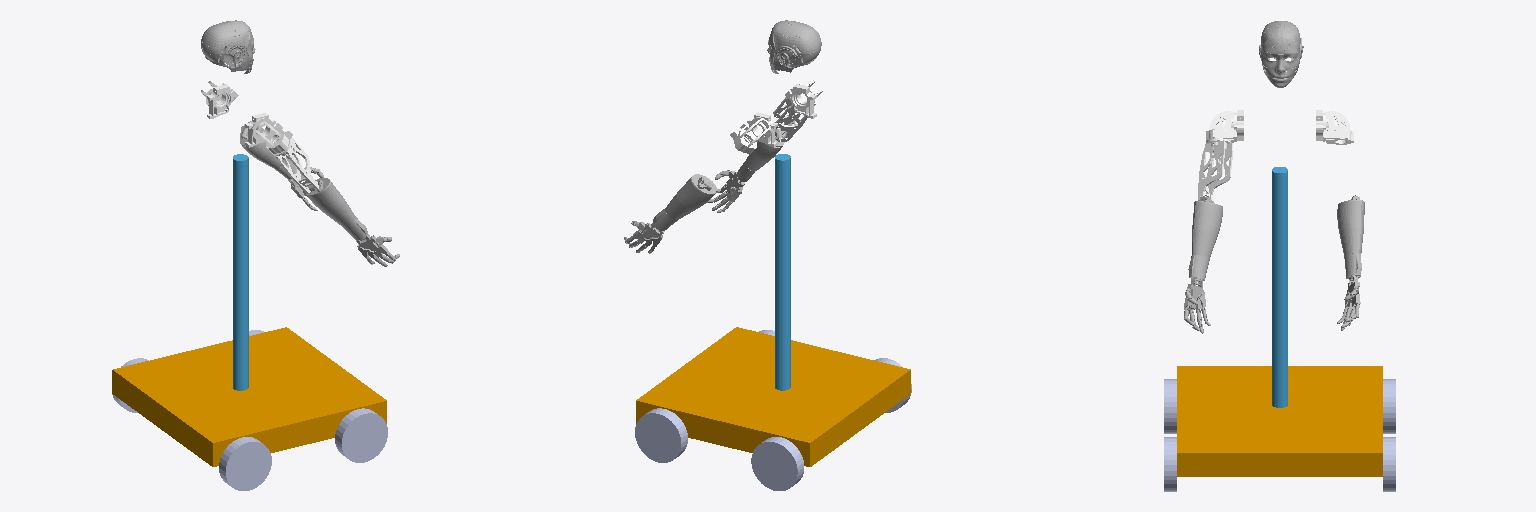
--- What the picture shows (computed from the rendered views, not written in the file) ---
The picture shows the robot from 3 angles, left to right: view 1: azimuth 30°, elevation 25°; view 2: azimuth 150°, elevation 25°; view 3: azimuth 270°, elevation 25°; orthographic projection.
Model yarab_5 with 22 links and 21 joints (12 revolute, 4 continuous, 5 fixed), rooted at base_link, posed all joints at 0 but 2 set to mid-range because 0 is outside their limits (rotate_Lj = -1, rotate_Rj = 1).
Visible links, largest first — view 1: base_link, pedestal_link, wheel_L1, wheel_L, head, hand_L, rotate_L, shouder_L, rest_L, hand_R, omo_R; view 2: base_link, pedestal_link, wheel_R1, wheel_R, head, hand_R, hand_L, shoulder_R, rotate_L, rest_L, rest_R, omo_L; view 3: base_link, pedestal_link, head, hand_L, hand_R, rotate_L, rest_L, shoulder_R, wheel_L, wheel_R, wheel_R1, wheel_L1 (+2 smaller).
Boxes of the visible links, x1,y1,x2,y2 form: base_link: (112, 327, 386, 466); pedestal_link: (233, 154, 248, 390); wheel_L1: (335, 408, 387, 462); wheel_L: (219, 437, 271, 490); head: (201, 20, 255, 73); hand_L: (306, 178, 367, 239); rotate_L: (273, 138, 318, 193); shouder_L: (252, 117, 292, 153); rest_L: (356, 234, 399, 266); hand_R: (240, 121, 295, 179); omo_R: (207, 84, 233, 118); base_link: (636, 327, 910, 466); pedestal_link: (775, 154, 790, 390); wheel_R1: (635, 408, 687, 462); wheel_R: (751, 437, 803, 490); head: (767, 20, 821, 73); hand_R: (653, 174, 716, 230); hand_L: (737, 122, 784, 181); shoulder_R: (730, 117, 771, 153); rotate_L: (773, 97, 807, 141); rest_L: (707, 170, 744, 212); rest_R: (624, 221, 664, 253); omo_L: (789, 84, 816, 118); base_link: (1177, 366, 1382, 476); pedestal_link: (1272, 167, 1287, 407); head: (1259, 21, 1303, 87); hand_L: (1188, 196, 1222, 280); hand_R: (1337, 195, 1364, 278); rotate_L: (1198, 138, 1233, 202); rest_L: (1184, 277, 1210, 333); shoulder_R: (1323, 111, 1353, 144); wheel_L: (1164, 379, 1176, 433); wheel_R: (1383, 379, 1395, 433); wheel_R1: (1383, 437, 1395, 491); wheel_L1: (1164, 437, 1176, 491).
Bounding box of the posed robot: 0.8747 × 0.85 × 1.71 m (x, y, z).
10 mesh visuals loaded from 13 distinct referenced files (10 binary STL); not drawn: 3 (reference not matched to a file when rendering).

The robot description file, URDF, robot "yarab_5":
<?xml version="1.0" encoding="utf-8"?>
<!-- This URDF was automatically created by SolidWorks to URDF Exporter! Originally created by Stephen Brawner ([email redacted]) 
     Commit Version: 1.6.0-1-g15f4949  Build Version: 1.6.7594.29634
     For more information, please see http://wiki.ros.org/sw_urdf_exporter -->
<robot name="yarab_5" xmlns:xacro="http://www.ros.org/wiki/xacro">

   
 

   <link name="base_link">
    <visual>
      <geometry>
        <box size="0.75 0.75 0.1"/>
      </geometry> 
      <origin rpy="0 0 0" xyz="0 0 0.105"/>
 
    </visual>
    <inertial>
      <origin xyz="0 0 0 " rpy=" 0 0 0.105"/>
      <mass value="19"/>
      <inertia ixx="2.360" ixy="0.702" ixz="-0.515" iyy="2.403" iyz="0.441" izz="1.8"/>
    </inertial>
  </link>


   
  
  <link name="pedestal_link">
    <visual>
      <geometry>
        <cylinder length="1" radius="0.03"/>
      </geometry>
      <origin rpy="0 0 0" xyz="0 0 0.6"/>
 
    </visual>
    <inertial>
      <mass value="1"/>
      <inertia ixx="2.360" ixy="0.702" ixz="-0.515" iyy="2.403" iyz="0.441" izz="1.8"/>
     </inertial>
  </link>
  <joint name="base_to_pedestal_link" type="fixed">
    <parent link="base_link"/>
    <child link="pedestal_link"/>
    <origin rpy="0 0 0"  xyz="-0.04 0 0"/>
  </joint>

  <link name="wheel_L">
      
    <inertial>
 
      <origin xyz="0 0 0" rpy=" 0 1.5707 1.5707"/>
 
      <mass value="5"/>
      <inertia
        ixx="0.5"
        ixy="0"
        ixz="0"
        iyy="0.3"
        iyz="0"
        izz="0.3" />
    </inertial>

    <collision name='collision'>
      <origin xyz="0 0 0" rpy=" 0 1.5707 1.5707"/> 
      <geometry>
        <cylinder radius="0.1" length="0.05"/>
      </geometry>
       
    </collision>

    <visual name='wheel_L_visual'>
      <origin xyz="0 0 0" rpy=" 0 1.5707 1.5707"/>
      <geometry>
         <cylinder radius="0.1" length="0.05"/>
      </geometry>
      <material
        name="">
        <color
          rgba="0.79216 0.81961 0.93333 1" />
      </material>
    </visual>
  </link>
  
     

   <joint name="wheel_Lj" type="continuous">
    <parent link="base_link"/>
    <child link="wheel_L"/>
    <origin rpy="0 0 0"  xyz="-0.25 -0.4 0.05"/>
    <axis xyz="0 1 0" rpy="0 0 0" />
 
    <joint_properties damping="0.001" friction="0.00001"/>
  </joint>
 

  <link name="wheel_R">
      
    <inertial>
 
      <origin xyz="0 0 0" rpy=" 0 1.5707 1.5707"/>
 
       
      <mass value="5"/>
      <inertia
        ixx="0.5"
        ixy="0"
        ixz="0"
        iyy="0.3"
        iyz="0"
        izz="0.3" />
    </inertial>

    <collision name='collision'>
      <origin xyz="0 0 0" rpy=" 0 1.5707 1.5707"/> 
      <geometry>
        <cylinder radius="0.1" length="0.05"/>
      </geometry>
        
    </collision>

    <visual name='wheel_R_visual'>
      <origin xyz="0 0 0" rpy=" 0 1.5707 1.5707"/>
      <geometry>
         <cylinder radius="0.1" length="0.05"/>
      </geometry>
       <material
        name="">
        <color
          rgba="0.79216 0.81961 0.93333 1" />
      </material>
    </visual>
  </link>
   
     

   <joint name="wheel_Rj" type="continuous">
    <parent link="base_link"/>
    <child link="wheel_R"/>
    <origin rpy="0 0 0"  xyz="-0.25 0.4 0.05"/>
    <axis xyz="0 1 0" rpy="0 0 0" />
 
    <joint_properties damping="0.001" friction="0.00001"/>
  </joint>
  <!--<gazebo>
    <plugin filename="libgazebo_ros_diff_drive.so" name="differential_drive_controller">
      <publishOdomTF>true</publishOdomTF>
      <rosDebugLevel>Debug</rosDebugLevel>
      <publishWheelTF>true</publishWheelTF>
      <publishTf>true</publishTf>
      <publishWheelJointState>true</publishWheelJointState>
      <alwaysOn>true</alwaysOn>
      <torque>10</torque>
      <updateRate>50.0</updateRate>
      <leftJoint>wheel_Lj</leftJoint>
      <rightJoint>wheel_Rj</rightJoint>
      <wheelSeparation>0.8</wheelSeparation>
      <wheelDiameter>0.2</wheelDiameter>
      <broadcastTF>1</broadcastTF>
      <wheelTorque>20</wheelTorque>
      <wheelAcceleration>1</wheelAcceleration>
      <commandTopic>cmd_vel</commandTopic>
      <odometryFrame>odom</odometryFrame>
      <odometryTopic>odom</odometryTopic>
      <robotBaseFrame>base_link</robotBaseFrame>
      <legacyMode>false</legacyMode>
    </plugin>
  </gazebo>--> 

  <link name="wheel_R1">
      
    <inertial>
 
      <origin xyz="0 0 0" rpy=" 0 1.5707 1.5707"/>
 
       
      <mass value="5"/>
      <inertia
        ixx="0.5"
        ixy="0"
        ixz="0"
        iyy="0.3"
        iyz="0"
        izz="0.3" />
    </inertial>

    <collision name='collision'>
      <origin xyz="0 0 0" rpy=" 0 1.5707 1.5707"/> 
      <geometry>
        <cylinder radius="0.1" length="0.05"/>
      </geometry>
       
    </collision>

    <visual name='wheel_R1_visual'>
      <origin xyz="0 0 0" rpy=" 0 1.5707 1.5707"/>
      <geometry>
         <cylinder radius="0.1" length="0.05"/>
      </geometry>
       <material
        name="">
        <color
          rgba="0.79216 0.81961 0.93333 1" />
      </material>
    </visual>
  </link>
   

  <joint name="wheel_Rj1" type="continuous">
    <parent link="base_link"/>
    <child link="wheel_R1"/>
    <origin rpy="0 0 0"  xyz="0.25 0.4 0.05"/>
    <axis xyz="0 1 0" rpy="0 0 0" />
 
    <joint_properties damping="0.001" friction="0.00001"/>
  </joint>

  <link name="wheel_L1">
      
    <inertial>
 
      <origin xyz="0 0 0" rpy=" 0 1.5707 1.5707"/>
 
      <mass value="5"/>
      <inertia
        ixx="0.5"
        ixy="0"
        ixz="0"
        iyy="0.3"
        iyz="0"
        izz="0.3" />
    </inertial>

    <collision name='collision'>
      <origin xyz="0 0 0" rpy=" 0 1.5707 1.5707"/> 
      <geometry>
        <cylinder radius="0.1" length="0.05"/>
      </geometry>
       
    </collision>

    <visual name='wheel_L1_visual'>
      <origin xyz="0 0 0" rpy=" 0 1.5707 1.5707"/>
      <geometry>
         <cylinder radius="0.1" length="0.05"/>
      </geometry>
      <material
        name="">
        <color
          rgba="0.79216 0.81961 0.93333 1" />
      </material>
    </visual>
  </link>
   
     

  <joint name="wheel_Lj1" type="continuous">
    <parent link="base_link"/>
    <child link="wheel_L1"/>
    <origin rpy="0 0 0"  xyz="0.25 -0.4 0.05"/>
    <axis xyz="0 1 0" rpy="0 0 0" />
 
    <joint_properties damping="0.001" friction="0.00001"/>
  </joint>
  <!--<gazebo>
    <plugin filename="libgazebo_ros_diff_drive.so" name="differential_drive_controller">
      <publishOdomTF>true</publishOdomTF>
      <rosDebugLevel>Debug</rosDebugLevel>
      <publishWheelTF>true</publishWheelTF>
      <publishTf>true</publishTf>
      <publishWheelJointState>true</publishWheelJointState>
      <alwaysOn>true</alwaysOn>
      <updateRate>50.0</updateRate>
      <leftJoint>wheel_Lj1</leftJoint>
      <rightJoint>wheel_Rj1</rightJoint>
      <wheelSeparation>0.8</wheelSeparation>
      <wheelDiameter>0.2</wheelDiameter>
      <broadcastTF>1</broadcastTF>
      <wheelTorque>20</wheelTorque>
      <wheelAcceleration>1</wheelAcceleration>
      <commandTopic>cmd_vel</commandTopic>
      <odometryFrame>odom</odometryFrame>
      <odometryTopic>odom</odometryTopic>
      <robotBaseFrame>base_link</robotBaseFrame>
      <legacyMode>false</legacyMode>
    </plugin>
  </gazebo>-->
 


  <!-- <link
    name="caster">
    <inertial>
      <origin
        xyz="0.0343540178179281 -0.00804234578799452 -0.035721628705299"
        rpy="0 0 0" />
      <mass
        value="1.81765554433287" />
      <inertia
        ixx="0.00201711990339206"
        ixy="1.59053007025258E-17"
        ixz="4.29492932718007E-18"
        iyy="0.00341060325818899"
        iyz="-2.06565000779944E-17"
        izz="0.00181229640803809" />
    </inertial>
    <visual>
      <origin
        xyz="0 0 0"
        rpy="0 0 0" />
      <geometry>
        <mesh
          filename="package://yarab_5/meshes/caster.STL" />
      </geometry>
      <material
        name="">
        <color
          rgba="0.647058823529412 0.619607843137255 0.588235294117647 1" />
      </material>
    </visual>
    <collision>
      <origin
        xyz="0 0 0"
        rpy="0 0 0" />
      <geometry>
        <mesh
          filename="package://yarab_5/meshes/caster.STL" />
      </geometry>
    </collision>
  </link>
  <joint
    name="caster_joint"
    type="fixed">
    <origin
      xyz="0.18065 0.0091028 -0.043699"
      rpy="0 0 0" />
    <parent
      link="base_link" />
    <child
      link="caster" />
    <axis
      xyz="0 0 0" />
  </joint>-->
  <link
    name="body">
    <inertial>
      <origin
        xyz="-0.0384918724857681 0.00178552458421267 0.159935059228738"
        rpy="0 0 0" />
      <mass
        value="1.91202002917265" />
      <inertia
        ixx="0.00273303625317548"
        ixy="-2.06285913284317E-07"
        ixz="9.2959308530691E-06"
        iyy="0.0016531430085364"
        iyz="0.000101386942419808"
        izz="0.00140674846336726" />
    </inertial>
    <visual>
      <origin
        xyz="0 0 0"
        rpy="0 0 0" />
      <geometry>
        <mesh
          filename="package://yarab_5/meshes/body.STL" />
      </geometry>
      <material
        name="">
        <color
          rgba="1 1 1 0.32" />
      </material>
    </visual>
    <collision>
      <origin
        xyz="0 0 0"
        rpy="0 0 0" />
      <geometry>
        <mesh
          filename="package://yarab_5/meshes/body.STL" />
      </geometry>
    </collision>
  </link>
  <joint
    name="body_link"
    type="fixed">
    <origin
      xyz="-0.0050417 0.0013268 1.0235"
      rpy="0 0 0" />
    <parent
      link="base_link" />
    <child
      link="body" />
    <axis
      xyz="0 0 0" />
  </joint>
  <link
    name="omo_L">
    <inertial>
      <origin
        xyz="0.0212694318696867 -0.00566332804666483 -0.0426371813176138"
        rpy="0 0 0" />
      <mass
        value="0.135697540457828" />
      <inertia
        ixx="0.000162318927052278"
        ixy="1.60919051595649E-06"
        ixz="-1.98518662725654E-05"
        iyy="0.00025396441224876"
        iyz="-1.2910748790188E-06"
        izz="0.000106851321139916" />
    </inertial>
    <visual>
      <origin
        xyz="0 0 0"
        rpy="0 0 0" />
      <geometry>
        <mesh
          filename="package://yarab_5/meshes/omo_L.STL" />
      </geometry>
      <material
        name="">
        <color
          rgba="1 1 1 0.32" />
      </material>
    </visual>
    <collision>
      <origin
        xyz="0 0 0"
        rpy="0 0 0" />
      <geometry>
        <mesh
          filename="package://yarab_5/meshes/omo_L.STL" />
      </geometry>
    </collision>
  </link>
  <joint
    name="omo_Lj"
    type="revolute">
    <origin
      xyz="-0.061433 -0.14191 0.29478"
      rpy="0 0 0" />
    <parent
      link="body" />
    <child
      link="omo_L" />
    <axis
      xyz="-1 0 0" />
    <limit
      lower="0"
      upper="1"
      effort="10"
      velocity="3" />
     
  </joint>
  <link
    name="shouder_L">
    <inertial>
      <origin
        xyz="0.0183588183182291 -0.0444633939975331 -0.0145068599892659"
        rpy="0 0 0" />
      <mass
        value="0.31191383251679" />
      <inertia
        ixx="0.000309456989034"
        ixy="-1.06190992090652E-05"
        ixz="-4.05071828768625E-05"
        iyy="0.000255452213653355"
        iyz="-1.22821429542959E-05"
        izz="0.000321418688570605" />
    </inertial>
    <visual>
      <origin
        xyz="0 0 0"
        rpy="0 0 0" />
      <geometry>
        <mesh
          filename="package://yarab_5/meshes/shouder_L.STL" />
      </geometry>
      <material
        name="">
        <color
          rgba="1 1 1 0.32" />
      </material>
    </visual>
    <collision>
      <origin
        xyz="0 0 0"
        rpy="0 0 0" />
      <geometry>
        <mesh
          filename="package://yarab_5/meshes/shouder_L.STL" />
      </geometry>
    </collision>
  </link>
  <joint
    name="shouder_Lj"
    type="revolute">
    <origin
      xyz="0.02799 -0.016748 -0.038733"
      rpy="0 0 0" />
    <parent
      link="omo_L" />
    <child
      link="shouder_L" />
    <axis
      xyz="0 -1 0" />
    <limit
      lower="0"
      upper="1"
      effort="10"
      velocity="3" />
   
  </joint>
  <link
    name="rotate_L">
    <inertial>
      <origin
        xyz="-0.0224626093094605 0.00163329475110996 0.00453035237775867"
        rpy="0 0 0" />
      <mass
        value="0.262977284557384" />
      <inertia
        ixx="0.000292121426480082"
        ixy="1.27284282685936E-05"
        ixz="-5.61396756699046E-05"
        iyy="0.000387783560790661"
        iyz="1.90160846953877E-05"
        izz="0.00019359045472725" />
    </inertial>
    <visual>
      <origin
        xyz="0 0 0"
        rpy="0 0 0" />
      <geometry>
        <mesh
          filename="package://yarab_5/meshes/rotate_L.STL" />
      </geometry>
      <material
        name="">
        <color
          rgba="1 1 1 0.32" />
      </material>
    </visual>
    <collision>
      <origin
        xyz="0 0 0"
        rpy="0 0 0" />
      <geometry>
        <mesh
          filename="package://yarab_5/meshes/rotate_L.STL" />
      </geometry>
    </collision>
  </link>
  <joint
    name="rotate_Lj"
    type="revolute">
    <origin
      xyz="0.10354 -0.067278 -0.11868"
      rpy="0 0 0" />
    <parent
      link="shouder_L" />
    <child
      link="rotate_L" />
    <axis
      xyz="0.65912 -0.004428 -0.75202" />
    <limit
      lower="-1.5"
      upper="-0.5"
      effort="10"
      velocity="3" />
     
  </joint>
  <link
    name="hand_L">
    <inertial>
      <origin
        xyz="0.0559447876925415 -0.00779673969551703 -0.0745916479393384"
        rpy="0 0 0" />
      <mass
        value="0.327188298164344" />
      <inertia
        ixx="0.000520434460456842"
        ixy="-4.17781288930706E-05"
        ixz="-1.51804077844164E-05"
        iyy="0.000384452370934889"
        iyz="-3.254421297706E-05"
        izz="0.000530459987533421" />
    </inertial>
    <visual>
      <origin
        xyz="0 0 0"
        rpy="0 0 0" />
      <geometry>
        <mesh
          filename="package://yarab_5/meshes/hand_L.STL" />
      </geometry>
      <material
        name="">
        <color
          rgba="0.752941176470588 0.752941176470588 0.752941176470588 1" />
      </material>
    </visual>
    <collision>
      <origin
        xyz="0 0 0"
        rpy="0 0 0" />
      <geometry>
        <mesh
          filename="package://yarab_5/meshes/hand_L.STL" />
      </geometry>
    </collision>
  </link>
  <joint
    name="hand_Lj"
    type="revolute">
    <origin
      xyz="0.048896 0.0048821 -0.12843"
      rpy="0 0 0" />
    <parent
      link="rotate_L" />
    <child
      link="hand_L" />
    <axis
      xyz="0.087987 0.99357 0.071267" />
    <limit
       lower="-1.10"
      upper="0"
      effort="10"
      velocity="3" />
  </joint>
  <link
    name="rest_L">
    <inertial>
      <origin
        xyz="0.0188857218020566 -0.00412551389833113 -0.0184291003042329"
        rpy="0 0 0" />
      <mass
        value="0.185026014260809" />
      <inertia
        ixx="8.71300457283702E-05"
        ixy="6.89250490012657E-06"
        ixz="2.83671209013227E-05"
        iyy="7.62808725553407E-05"
        iyz="-1.80128983377849E-05"
        izz="5.53607594891623E-05" />
    </inertial>
    <visual>
      <origin
        xyz="0 0 0"
        rpy="0 0 0" />
      <geometry>
        <mesh
          filename="package://yarab_5/meshes/rest_L.STL" />
      </geometry>
      <material
        name="">
        <color
          rgba="0.752941176470588 0.752941176470588 0.752941176470588 1" />
      </material>
    </visual>
    <collision>
      <origin
        xyz="0 0 0"
        rpy="0 0 0" />
      <geometry>
        <mesh
          filename="package://yarab_5/meshes/rest_L.STL" />
      </geometry>
    </collision>
  </link>
  <joint
    name="rest_Lj"
    type="revolute">
    <origin
      xyz="0.18924 -0.010997 -0.2897"
      rpy="0 0 0" />
    <parent
      link="hand_L" />
    <child
      link="rest_L" />
    <axis
      xyz="-0.53136 -0.013701 0.84704" />
    <limit
      lower="0"
      upper="1"
      effort="10"
      velocity="3" />
  </joint>


 
  <link name="end_zeft_L"/>
  <joint name="end_zeft_Lj" type="revolute">
    <parent link="rest_L"/>
    <child link="end_zeft_L"/>
    <origin rpy="0 0 0"  xyz="0.3 0.012764 -0.28404"/>
    <axis  xyz="-0.7 0.0023746 0.76379" />
    <limit
      lower="-1"
      upper="0"
      effort="10"
      velocity="3" />
  </joint>


















  <link
    name="omo_R">
    <inertial>
      <origin
        xyz="-0.0524232487351919 0.00286389736088846 -0.043731423271426"
        rpy="0 0 0" />
      <mass
        value="0.135697540430682" />
      <inertia
        ixx="0.000162318941282968"
        ixy="-1.84283661019144E-06"
        ixz="-1.98315403742906E-05"
        iyy="0.000253974415932807"
        iyz="-4.41583946421858E-07"
        izz="0.000106841331671834" />
    </inertial>
    <visual>
      <origin
        xyz="0 0 0"
        rpy="0 0 0" />
      <geometry>
        <mesh
          filename="package://yarab_5/meshes/omo_R.STL" />
      </geometry>
      <material
        name="">
        <color
          rgba="1 1 1 0.32" />
      </material>
    </visual>
    <collision>
      <origin
        xyz="0 0 0"
        rpy="0 0 0" />
      <geometry>
        <mesh
          filename="package://yarab_5/meshes/omo_R.STL" />
      </geometry>
    </collision>
  </link>
  <joint
    name="omo_Rj"
    type="revolute">
    <origin
      xyz="0.012259 0.14242 0.29589"
      rpy="0 0 0" />
    <parent
      link="body" />
    <child
      link="omo_R" />
    <axis
      xyz="-1 0 0" />
    <limit
      lower="-1"
      upper="0"
      effort="10"
      velocity="3" />
    
  </joint>
  <link
    name="shoulder_R">
    <inertial>
      <origin
        xyz="0.0183588175208857 0.0438141843890701 -0.0369271087793255"
        rpy="0 0 0" />
      <mass
        value="0.311913841720798" />
      <inertia
        ixx="0.000309456982753045"
        ixy="1.01413561515747E-05"
        ixz="-4.06294249209773E-05"
        iyy="0.000255750613380444"
        iyz="1.30554954143824E-05"
        izz="0.00032112030866524" />
    </inertial>
    <visual>
      <origin
        xyz="0 0 0"
        rpy="0 0 0" />
      <geometry>
        <mesh
          filename="package://yarab_5/meshes/shoulder_R.STL" />
      </geometry>
      <material
        name="">
        <color
          rgba="1 1 1 0.32" />
      </material>
    </visual>
    <collision>
      <origin
        xyz="0 0 0"
        rpy="0 0 0" />
      <geometry>
        <mesh
          filename="package://yarab_5/meshes/shoulder_R.STL" />
      </geometry>
    </collision>
  </link>
  <joint
    name="shoulder_Rj"
    type="revolute">
    <origin
      xyz="-0.045703 0.01447 -0.01806"
      rpy="0 0 0" />
    <parent
      link="omo_R" />
    <child
      link="shoulder_R" />
    <axis
      xyz="0 0.99993 -0.011776" />
    <limit
      lower="-1"
      upper="0"
      effort="10"
      velocity="3" />
 
  </joint>
  <link
    name="rotate_R">
    <inertial>
      <origin
        xyz="-0.022463 0.0016333 0.0045304"
        rpy="0 0 0" />
      <mass
        value="0.26298" />
      <inertia
        ixx="0.00029212"
        ixy="1.2728E-05"
        ixz="-5.614E-05"
        iyy="0.00038778"
        iyz="1.9016E-05"
        izz="0.00019359" />
    </inertial>
    <visual>
      <origin
        xyz="0 0 0"
        rpy="0 0 0" />
      <geometry>
        <mesh
          filename="package://yarab_5/meshes/rotate_R.STL" />
      </geometry>
      <material
        name="">
        <color
          rgba="1 1 1 0.32" />
      </material>
    </visual>
    <collision>
      <origin
        xyz="0 0 0"
        rpy="0 0 0" />
      <geometry>
        <mesh
          filename="package://yarab_5/meshes/rotate_R.STL" />
      </geometry>
    </collision>
  </link>
  <joint
    name="rotate_Rj"
    type="revolute">
    <origin
      xyz="0.10354 0.065426 -0.14136"
      rpy="0 0 0" />
    <parent
      link="shoulder_R" />
    <child
      link="rotate_R" />
    <axis
      xyz="0.65912 -0.004428 -0.75202" />
    <limit
      lower="0.5"
      upper="1.5"
      effort="10"
      velocity="3" />
 
  </joint>
  <link
    name="hand_R">
    <inertial>
      <origin
        xyz="0.0675226597614774 0.00663485872455144 -0.0646965476859732"
        rpy="0 0 0" />
      <mass
        value="0.327181497650131" />
      <inertia
        ixx="0.000533263163681015"
        ixy="1.28257228347251E-05"
        ixz="-7.53529851206024E-06"
        iyy="0.000367614467908172"
        iyz="1.58861797474135E-05"
        izz="0.000534466426155837" />
    </inertial>
    <visual>
      <origin
        xyz="0 0 0"
        rpy="0 0 0" />
      <geometry>
        <mesh
          filename="package://yarab_5/meshes/hand_R.STL" />
      </geometry>
      <material
        name="">
        <color
          rgba="0.752941176470588 0.752941176470588 0.752941176470588 1" />
      </material>
    </visual>
    <collision>
      <origin
        xyz="0 0 0"
        rpy="0 0 0" />
      <geometry>
        <mesh
          filename="package://yarab_5/meshes/hand_R.STL" />
      </geometry>
    </collision>
  </link>
  <joint
    name="hand_Rj"
    type="revolute">
    <origin
      xyz="0.048896 0.0048821 -0.12843"
      rpy="0 0 0" />
    <parent
      link="rotate_R" />
    <child
      link="hand_R" />
    <axis
      xyz="-0.087987 -0.99357 -0.071267" />
    <limit
       lower="0"
      upper="1.1"
      effort="10"
      velocity="3" />
     
  </joint>
  <link
    name="rest_R">
    <inertial>
      <origin
        xyz="-5.05268808778658E-05 0.00243132869478613 0.0113427620381037"
        rpy="0 0 0" />
      <mass
        value="0.185027184716738" />
      <inertia
        ixx="7.27003367111184E-05"
        ixy="-1.60085720722962E-05"
        ixz="3.22748272006103E-05"
        iyy="7.62024107888347E-05"
        iyz="1.13794075702724E-05"
        izz="6.98724470484816E-05" />
    </inertial>
    <visual>
      <origin
        xyz="0 0 0"
        rpy="0 0 0" />
      <geometry>
        <mesh
          filename="package://yarab_5/meshes/rest_R.STL" />
      </geometry>
      <material
        name="">
        <color
          rgba="0.752941176470588 0.752941176470588 0.752941176470588 1" />
      </material>
    </visual>
    <collision>
      <origin
        xyz="0 0 0"
        rpy="0 0 0" />
      <geometry>
        <mesh
          filename="package://yarab_5/meshes/rest_R.STL" />
      </geometry>
    </collision>
  </link>
  <joint
    name="rest_Rj"
    type="revolute">
    <origin
      xyz="0.25306 0.012764 -0.28404"
      rpy="0 0 0" />
    <parent
      link="hand_R" />
    <child
      link="rest_R" />
    <axis
      xyz="-0.64546 0.0023746 0.76379" />
    <limit
      lower="-1"
      upper="0"
      effort="10"
      velocity="3" />
  </joint>








 
  <link name="end_zeft_R"/>
  <joint name="end_zeft_Rj" type="revolute">
    <parent link="rest_R"/>
    <child link="end_zeft_R"/>
    <origin rpy="0 0 0"  xyz="0.3 0.012764 -0.28404"/>
    <axis  xyz="-0.7 0.0023746 0.76379" />
    <limit
      lower="-1"
      upper="0"
      effort="10"
      velocity="3" />
  </joint>
















  
  <link
    name="head">
    <inertial>
      <origin
        xyz="-0.00715860558069739 -8.48271899615599E-05 -0.0925552271138886"
        rpy="0 0 0" />
      <mass
        value="0" />
      <inertia
        ixx="0.000404992387441616"
        ixy="1.23887720838123E-06"
        ixz="2.30662913464664E-05"
        iyy="0.000575216177687307"
        iyz="-4.13331909858923E-06"
        izz="0.000526322271498493" />
    </inertial>
    <visual>
      <origin
        xyz="0 0 0"
        rpy="0 0 0" />
      <geometry>
        <mesh
          filename="package://yarab_5/meshes/head.STL" />
      </geometry>
      <material
        name="">
        <color
          rgba="0.752941176470588 0.752941176470588 0.752941176470588 1" />
      </material>
    </visual>
    <collision>
      <origin
        xyz="0 0 0"
        rpy="0 0 0" />
      <geometry>
        <mesh
          filename="package://yarab_5/meshes/head.STL" />
      </geometry>
    </collision>
  </link>
  <joint
    name="head_joint"
    type="fixed">
    <origin
      xyz="-0.073757 0.0018778 0.63998"
      rpy="0 0 0" />
    <parent
      link="body" />
    <child
      link="head" />
    <axis
      xyz="0 0 0" />
  </joint>

  <link name="camera_link">
    <visual>
      <origin xyz="0 0 0" rpy="0 0 1.57079632679"/>
      <geometry>
         <mesh filename="package://yarab_5/meshes/sensor/kinect.dae"/>
      </geometry>
    </visual>
    <collision>
      <origin xyz="0 0 0" rpy="0 0 1.57079632679"/>
      <geometry>
         <mesh filename="package://yarab_5/meshes/sensor/kinect.dae"/>
      </geometry>
    </collision>
    <inertial>
      <mass value="0.1" />
      <origin xyz="0 0 0" rpy="0 0 0"/>
      <box_inertia m="0.1" x="0.05" y="0.05" z="0.05" />
      <inertia ixx="1e-6" ixy="0" ixz="0" iyy="1e-6" iyz="0" izz="1e-6" />
    </inertial>
  </link>

  <joint name="camera_joint" type="fixed">
    <axis xyz="0 1 0" />
    <origin xyz="0 0 1.12" rpy="0 0 0"/>
    <parent link="base_link"/>
    <child link="camera_link"/>
  </joint>
  <link name="camera_frame_optical"/>
  <joint name="camera_optical_joint" type="fixed">
      <origin xyz="0 0 0" rpy="-1.57079632679 0 -1.57079632679"/>
      <parent link="camera_link"/>
      <child link="camera_frame_optical"/>
  </joint>
 

  <gazebo reference="camera_link">
			<sensor type="depth" name="camera_rgb_sensor">
				<always_on>true</always_on>
				<update_rate>1.0</update_rate>
				<camera>
					<horizontal_fov>1.047198</horizontal_fov>
					<image>
						<format>R8G8B8</format>
						<width>640</width>
						<height>480</height>
					</image>
					<clip>
						<near>0.03</near>
						<far>5</far>
					</clip>
				</camera>
      <plugin name="camera_controller" filename="libgazebo_ros_openni_kinect.so">
					<alwaysOn>true</alwaysOn>
					<updateRate>1.0</updateRate>
					<cameraName>camera_rgb1</cameraName>
					<imageTopicName>/camera/rgb/image_raw1</imageTopicName>
					<cameraInfoTopicName>/camera/rgb/camera_info1</cameraInfoTopicName>
					<depthImageTopicName>/camera/depth/image_raw1</depthImageTopicName>
					<depthImageCameraInfoTopicName>/camera/depth/camera_info1</depthImageCameraInfoTopicName>
					<pointCloudTopicName>/camera/depth_registered/points1</pointCloudTopicName>
					<frameName>camera_frame_optical</frameName>
					<pointCloudCutoff>0.5</pointCloudCutoff>
					<distortionK1>0.00000001</distortionK1>
					<distortionK2>0.00000001</distortionK2>
					<distortionK3>0.00000001</distortionK3>
					<distortionT1>0.00000001</distortionT1>
					<distortionT2>0.00000001</distortionT2>
					<CxPrime>0</CxPrime>
					<Cx>0</Cx>
					<Cy>0</Cy>
					<focalLength>0</focalLength>
					<hackBaseline>0</hackBaseline>
				</plugin>
			</sensor>
  </gazebo>
  
  <transmission name="wheel_Lj_joint1">
    <type>transmission_interface/SimpleTransmission</type>
    <joint name="wheel_Lj">
        <hardwareInterface>hardware_interface/VelocityJointInterface</hardwareInterface>
    </joint>
    <actuator name="wheel_Lj_motor">
        <hardwareInterface>hardware_interface/VelocityJointInterface</hardwareInterface>
        <mechanicalReduction>1</mechanicalReduction>
    </actuator>
  </transmission>
  <transmission name="wheel_Lj1_joint1">
    <type>transmission_interface/SimpleTransmission</type>
    <joint name="wheel_Lj1">

        <hardwareInterface>hardware_interface/VelocityJointInterface</hardwareInterface>

    </joint>
    <actuator name="wheel_Lj1_motor">

        <hardwareInterface>hardware_interface/VelocityJointInterface</hardwareInterface>

        <mechanicalReduction>1</mechanicalReduction>

    </actuator>

  </transmission>
  <transmission name="wheel_Rj_joint1">
    <type>transmission_interface/SimpleTransmission</type>
    <joint name="wheel_Rj">
        <hardwareInterface>hardware_interface/VelocityJointInterface</hardwareInterface>
    </joint>
    <actuator name="wheel_Rj_motor">
        <hardwareInterface>hardware_interface/VelocityJointInterface</hardwareInterface>
        <mechanicalReduction>1</mechanicalReduction>
    </actuator>
  </transmission>
  

  <transmission name="wheel_Rj1_joint1">

    <type>transmission_interface/SimpleTransmission</type>

    <joint name="wheel_Rj1">

        <hardwareInterface>hardware_interface/VelocityJointInterface</hardwareInterface>

    </joint>

    <actuator name="wheel_Rj1_motor">

        <hardwareInterface>hardware_interface/VelocityJointInterface</hardwareInterface>

        <mechanicalReduction>1</mechanicalReduction>

    </actuator>

  </transmission>
  <transmission name="omo_Lj_joint1">
    <type>transmission_interface/SimpleTransmission</type>
    <joint name="omo_Lj">
        <hardwareInterface>hardware_interface/PositionJointInterface</hardwareInterface>
    </joint>
    <actuator name="omo_Lj_motor">
        <hardwareInterface>hardware_interface/PositionJointInterface</hardwareInterface>
        <mechanicalReduction>1</mechanicalReduction>
    </actuator>
  </transmission>
  <transmission name="shouder_Lj_joint1">
    <type>transmission_interface/SimpleTransmission</type>
    <joint name="shouder_Lj">
        <hardwareInterface>hardware_interface/PositionJointInterface</hardwareInterface>
    </joint>
    <actuator name="shouder_Lj_motor">
        <hardwareInterface>hardware_interface/PositionJointInterface</hardwareInterface>
        <mechanicalReduction>1</mechanicalReduction>
    </actuator>
  </transmission>
  <transmission name="rotate_Lj_joint1">
    <type>transmission_interface/SimpleTransmission</type>
    <joint name="rotate_Lj">
        <hardwareInterface>hardware_interface/PositionJointInterface</hardwareInterface>
    </joint>
    <actuator name="rotate_Lj_motor">
        <hardwareInterface>hardware_interface/PositionJointInterface</hardwareInterface>
        <mechanicalReduction>1</mechanicalReduction>
    </actuator>
  </transmission>
  <transmission name="hand_Lj_joint1">
    <type>transmission_interface/SimpleTransmission</type>
    <joint name="hand_Lj">
        <hardwareInterface>hardware_interface/PositionJointInterface</hardwareInterface>
    </joint>
    <actuator name="hand_Lj_motor">
        <hardwareInterface>hardware_interface/PositionJointInterface</hardwareInterface>
        <mechanicalReduction>1</mechanicalReduction>
    </actuator>
  </transmission>
  <transmission name="omo_Rj_joint1">
    <type>transmission_interface/SimpleTransmission</type>
    <joint name="omo_Rj">
        <hardwareInterface>hardware_interface/PositionJointInterface</hardwareInterface>
    </joint>
    <actuator name="omo_Rj_motor">
        <hardwareInterface>hardware_interface/PositionJointInterface</hardwareInterface>
        <mechanicalReduction>1</mechanicalReduction>
    </actuator>
  </transmission>
  <transmission name="shoulder_Rj_joint1">
    <type>transmission_interface/SimpleTransmission</type>
    <joint name="shoulder_Rj">
        <hardwareInterface>hardware_interface/PositionJointInterface</hardwareInterface>
    </joint>
    <actuator name="shoulder_Rj_motor">
        <hardwareInterface>hardware_interface/PositionJointInterface</hardwareInterface>
        <mechanicalReduction>1</mechanicalReduction>
    </actuator>
  </transmission>
  <transmission name="rotate_Rj_joint1">
    <type>transmission_interface/SimpleTransmission</type>
    <joint name="rotate_Rj">
        <hardwareInterface>hardware_interface/PositionJointInterface</hardwareInterface>
    </joint>
    <actuator name="rotate_Rj_motor">
        <hardwareInterface>hardware_interface/PositionJointInterface</hardwareInterface>
        <mechanicalReduction>1</mechanicalReduction>
    </actuator>
  </transmission>
  <transmission name="hand_Rj_joint1">
    <type>transmission_interface/SimpleTransmission</type>
    <joint name="hand_Rj">
        <hardwareInterface>hardware_interface/PositionJointInterface</hardwareInterface>
    </joint>
    <actuator name="hand_Rj_motor">
        <hardwareInterface>hardware_interface/PositionJointInterface</hardwareInterface>
        <mechanicalReduction>1</mechanicalReduction>
    </actuator>
  </transmission>
  <transmission name="rest_Rj_joint1">
    <type>transmission_interface/SimpleTransmission</type>
    <joint name="rest_Rj">
        <hardwareInterface>hardware_interface/PositionJointInterface</hardwareInterface>
    </joint>
    <actuator name="rest_Rj_motor">
        <hardwareInterface>hardware_interface/PositionJointInterface</hardwareInterface>
        <mechanicalReduction>1</mechanicalReduction>
    </actuator>
  </transmission>
  <transmission name="rest_Lj_joint1">
    <type>transmission_interface/SimpleTransmission</type>
    <joint name="rest_Lj">
        <hardwareInterface>hardware_interface/PositionJointInterface</hardwareInterface>
    </joint>
    <actuator name="rest_Lj_motor">
        <hardwareInterface>hardware_interface/PositionJointInterface</hardwareInterface>
        <mechanicalReduction>1</mechanicalReduction>
    </actuator>
  </transmission>
  <gazebo>
    <plugin name="gazebo_ros_control" filename="libgazebo_ros_control.so">
        <robotNamespace></robotNamespace>
              <robotSimType>gazebo_ros_control/DefaultRobotHWSim</robotSimType>
        <legacyModeNS>true</legacyModeNS>
    </plugin>
  </gazebo>
</robot>
